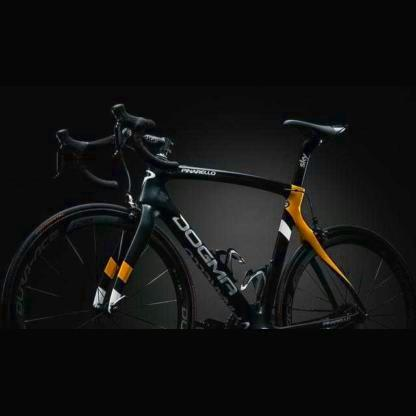Bicycle: (0, 88, 415, 325)
